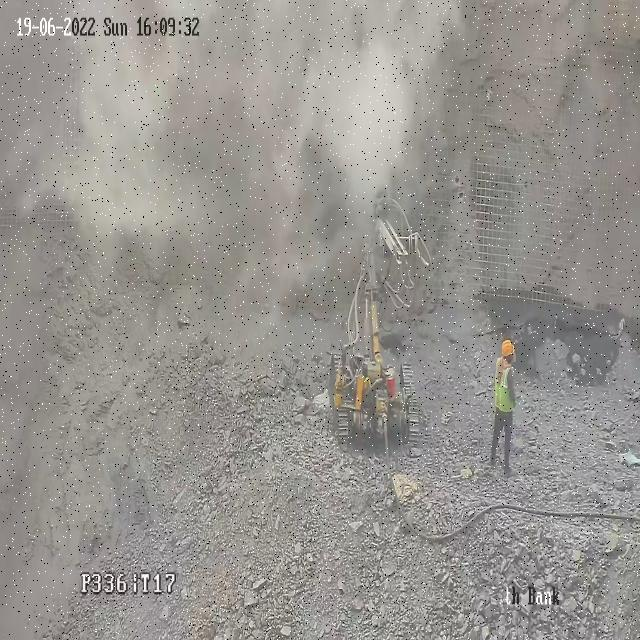Boots: (505, 465, 517, 478), (490, 452, 496, 468)
Helmet: (501, 340, 517, 357)
Mask: (496, 356, 514, 413)
